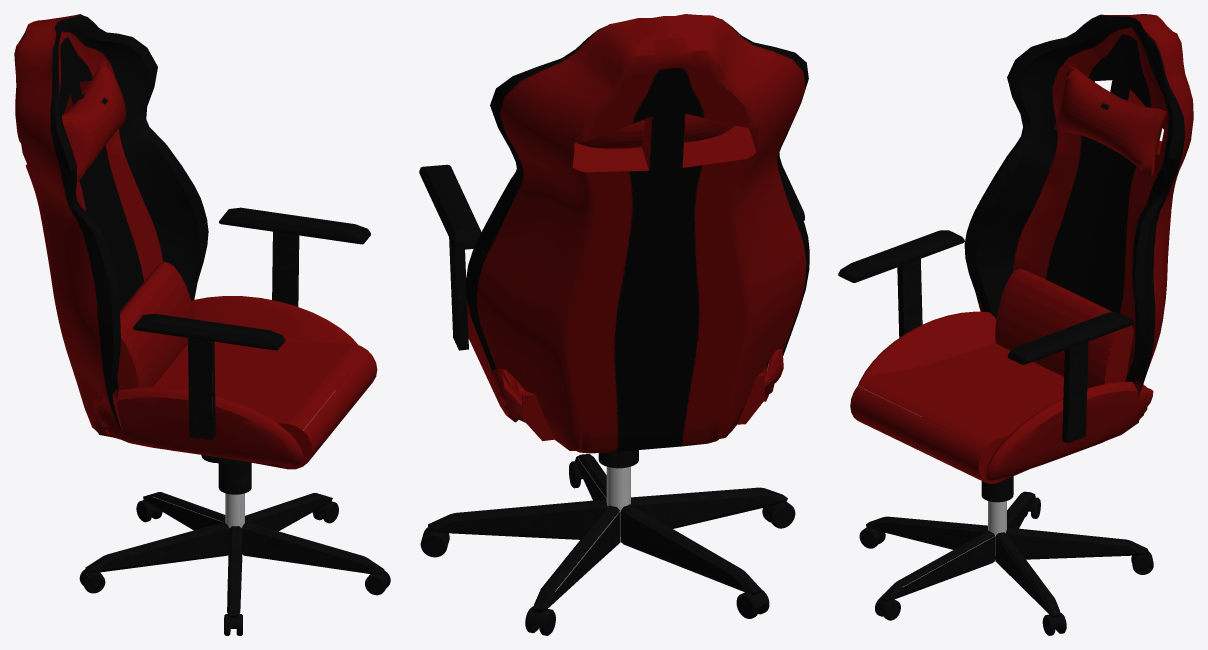
File: chair.fbx
3 views of the same model, side by side, from view 1: azimuth 30°, elevation 25°; view 2: azimuth 150°, elevation 25°; view 3: azimuth 270°, elevation 25° (orthographic). The views are drawn at different scales.
Parts seen in each view (by area): view 1: Cadeira; view 2: Cadeira; view 3: Cadeira.
Part boxes in pixels (x1,y1,x2,y2): Cadeira: (14,14,390,635); Cadeira: (419,14,809,635); Cadeira: (838,14,1193,635).
Bounding box in the file's own units: 81.14 × 129 × 81.61.
